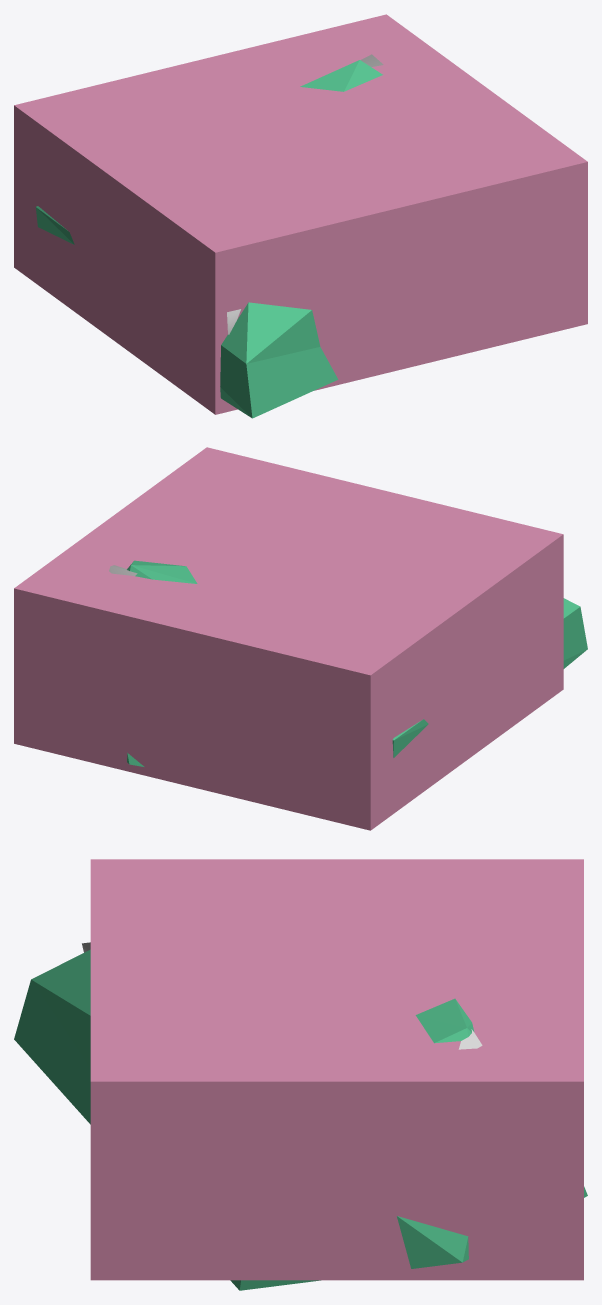
Rendered from rock_01_a_small_a.dae.
The picture shows the model from 3 angles, top to bottom: view 1: azimuth 30°, elevation 25°; view 2: azimuth 150°, elevation 25°; view 3: azimuth 270°, elevation 25°; orthographic projection. The views are drawn at different scales.
Parts seen in each view (by area): view 1: Untitled, Colmesh-1; view 2: Untitled, Colmesh-1; view 3: Untitled, Colmesh-1.
Boxes of the visible parts, x1,y1,x2,y2 form: Untitled: (14,14,587,414); Colmesh-1: (35,60,382,418); Untitled: (14,447,563,830); Colmesh-1: (127,560,587,766); Untitled: (90,859,583,1280); Colmesh-1: (14,949,587,1290).
Bounding box in the file's own units: 0.4769 × 0.5092 × 0.2264.
